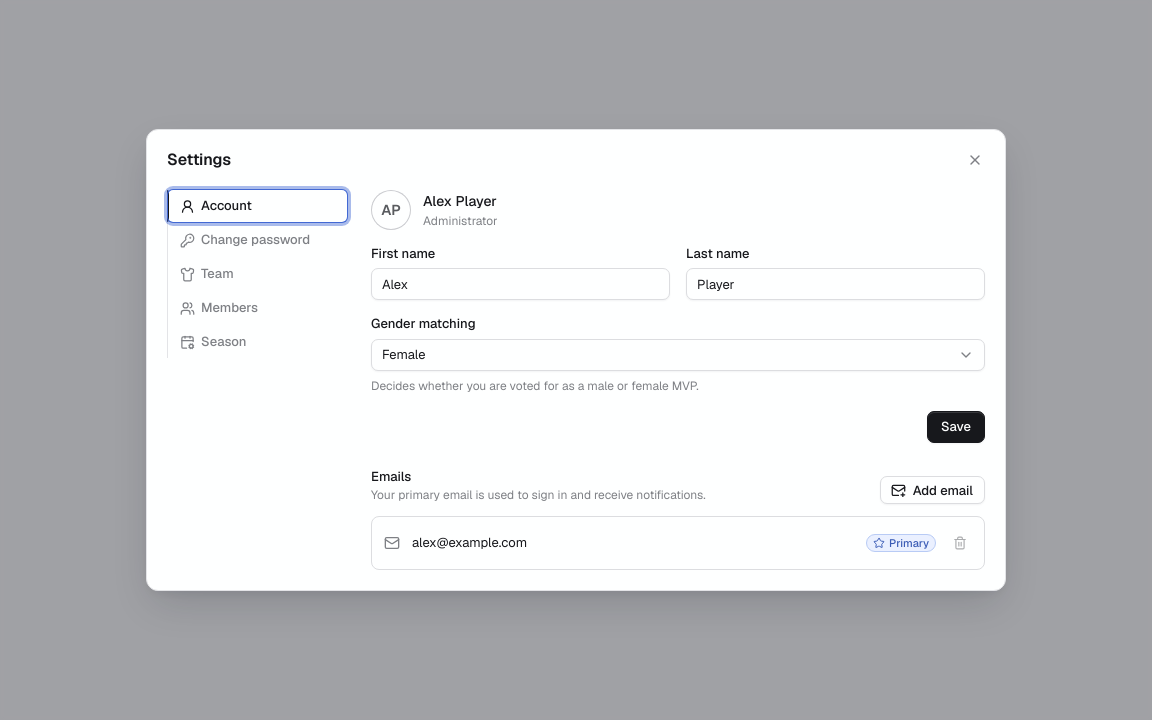
Test: SettingsDialog › gives admins the season tab and team settings even if the roster fails
Check: the text "Administrator" is shown, box [423,212,498,230]
Click the tab "Season": click(258, 342) [168,326,347,358]
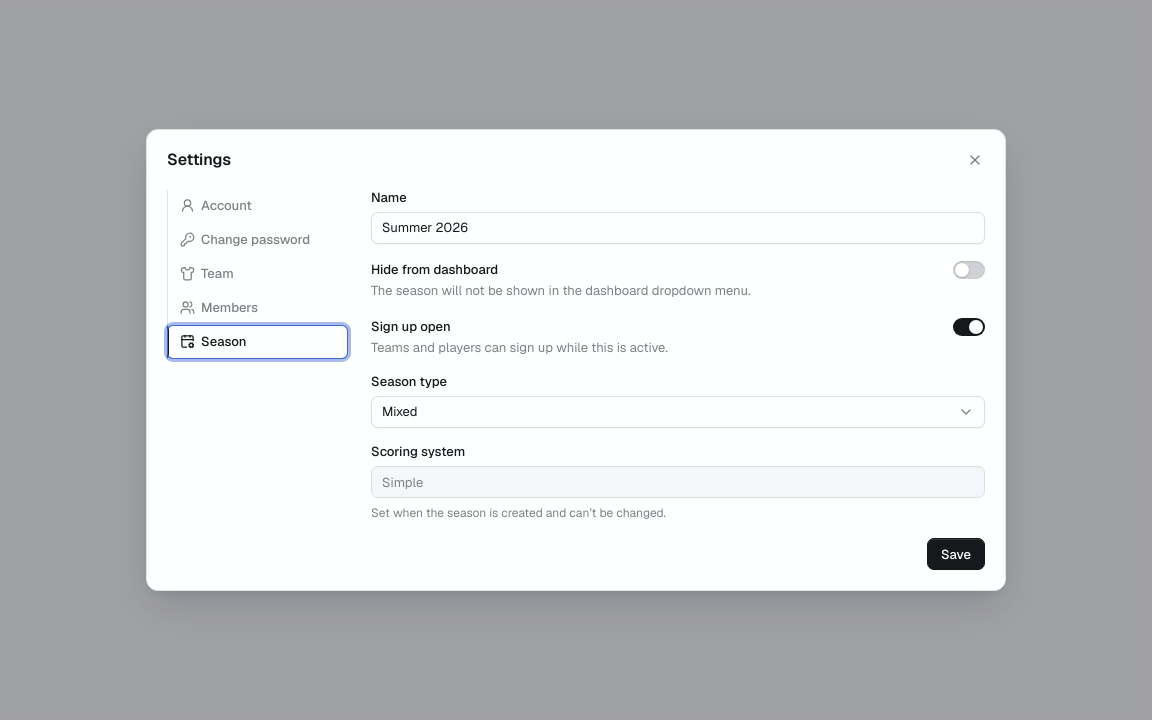
Check: the field labelled "Scoring system" is shown, box [382,467,974,497]
